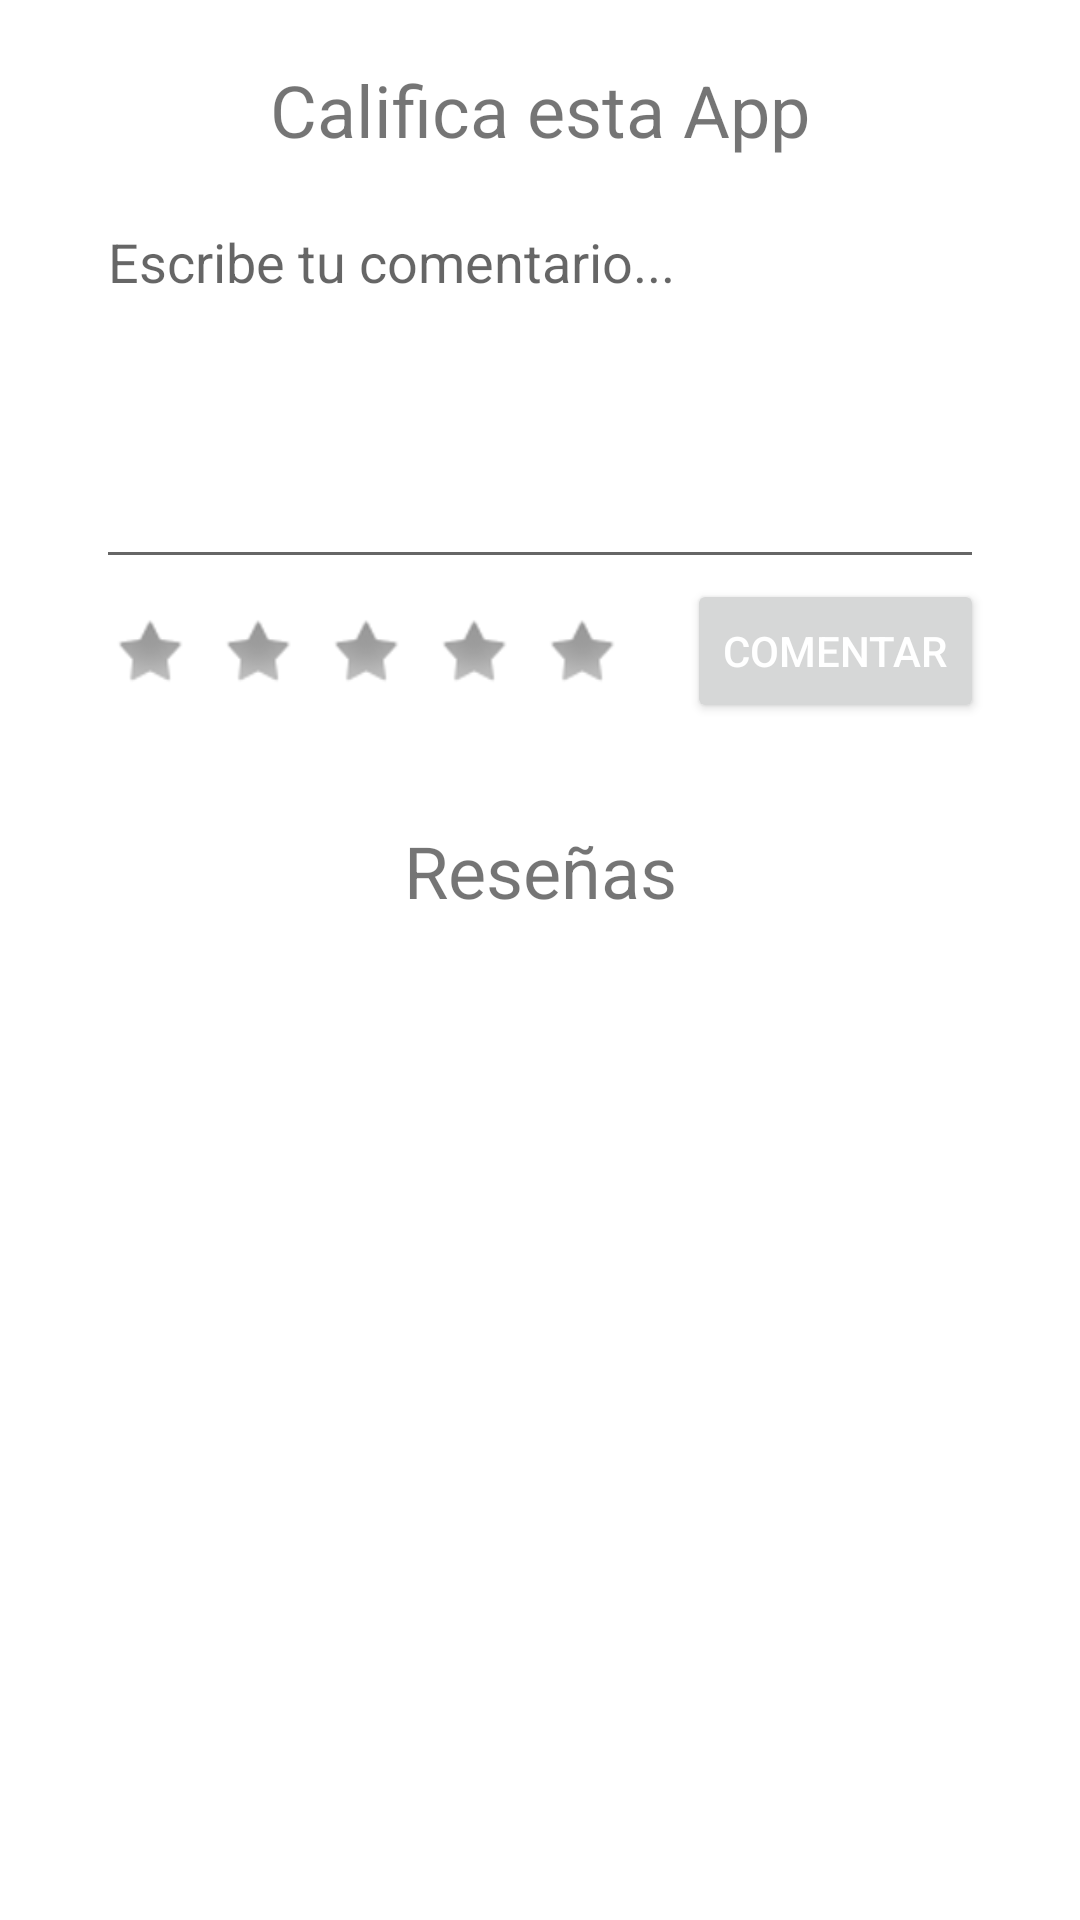

Screen size 1080px×1920px. Icon name, then its box in pixels as (x1, y1, x2, y2):
star off: (120, 621, 181, 680), (228, 621, 289, 680), (336, 621, 397, 680), (444, 621, 505, 680), (552, 621, 613, 680)
